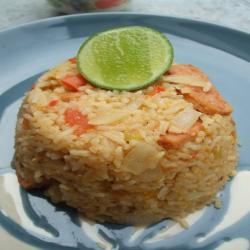rice: (11, 49, 244, 228)
